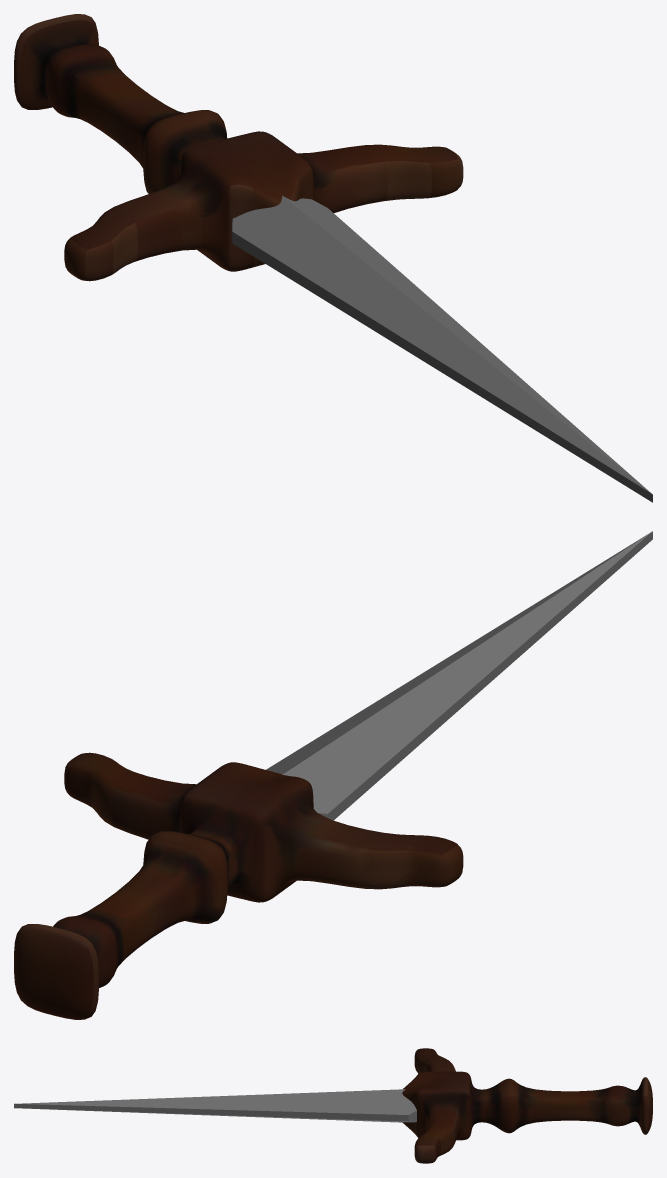
The model's file is dagger.fbx.
3 views of the same model, one above another, from view 1: azimuth 30°, elevation 25°; view 2: azimuth 150°, elevation 25°; view 3: azimuth 270°, elevation 25° (orthographic). The views are drawn at different scales.
Visible parts, largest first — view 1: Hilt, Blade; view 2: Hilt, Blade; view 3: Hilt, Blade.
Boxes of the visible parts, x1,y1,x2,y2 form: Hilt: [14, 14, 463, 281]; Blade: [232, 195, 652, 502]; Hilt: [14, 752, 463, 1019]; Blade: [266, 531, 652, 820]; Hilt: [402, 1048, 652, 1163]; Blade: [14, 1089, 416, 1122].
Bounding box in the file's own units: 690 × 162 × 1854.
Materials: 2 (1 with a texture image).
